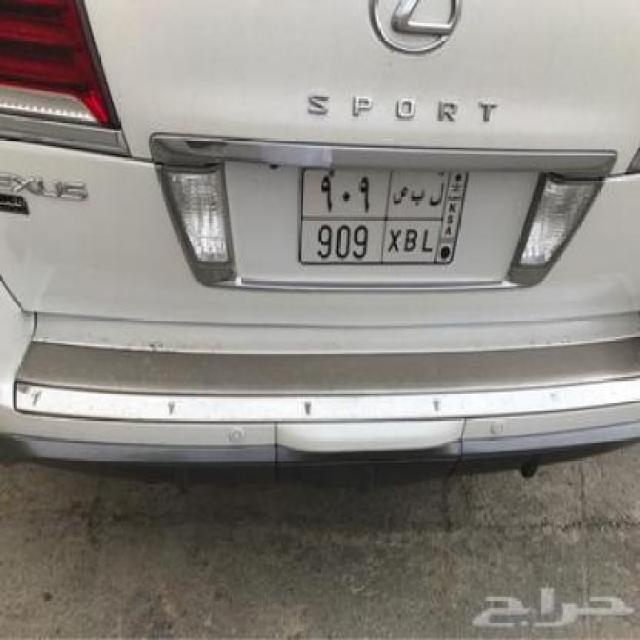license_plate: (297, 164, 471, 270)
